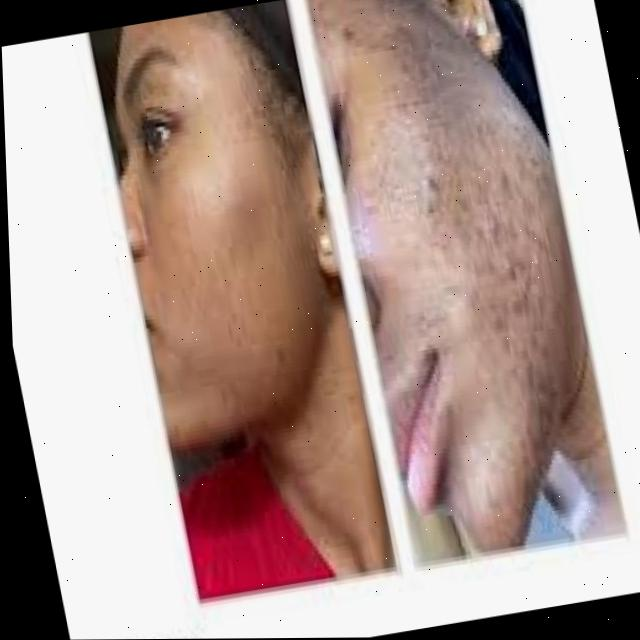Rosacea: (416, 95, 596, 460)
